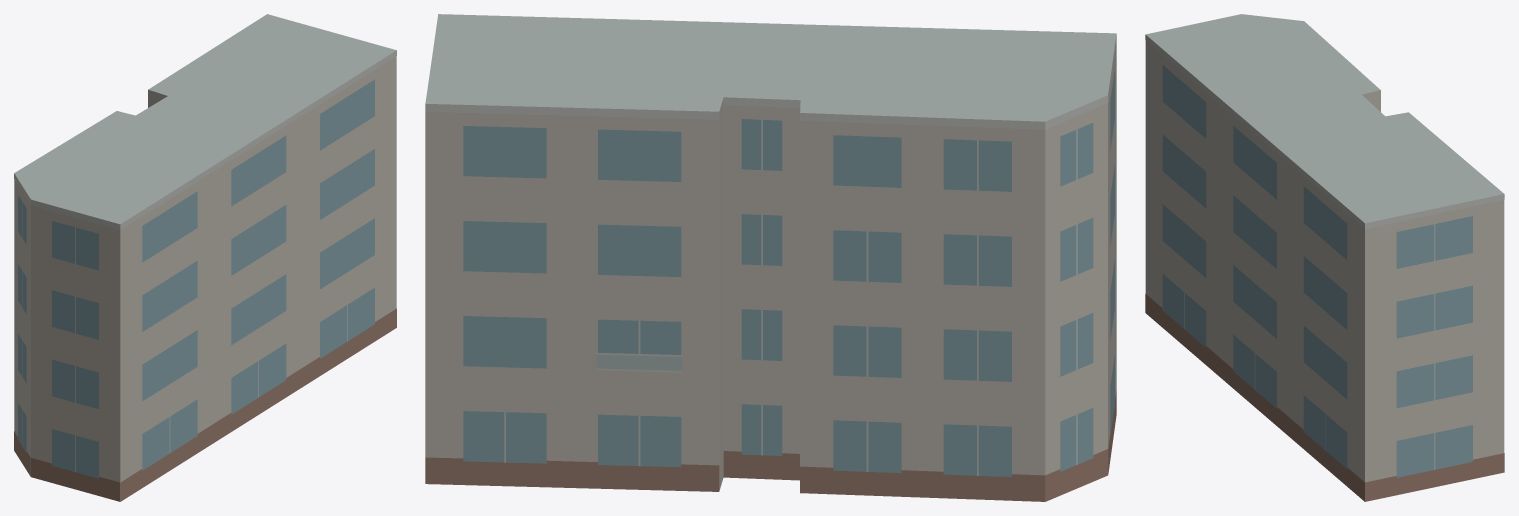
File: survey-upis-33001659.glb
The picture shows the model from 3 angles, left to right: view 1: azimuth 30°, elevation 25°; view 2: azimuth 150°, elevation 25°; view 3: azimuth 270°, elevation 25°; orthographic projection. The views are drawn at different scales.
Visible parts, largest first — view 1: survey-upis-33001659.tmp; view 2: survey-upis-33001659.tmp; view 3: survey-upis-33001659.tmp.
Boxes of the visible parts, box(x1,y1,x2,y2) form: survey-upis-33001659.tmp: box(14, 14, 396, 501); survey-upis-33001659.tmp: box(425, 14, 1116, 501); survey-upis-33001659.tmp: box(1145, 14, 1504, 501).
Bounding box in the file's own units: 18.95 × 11.75 × 13.73.
